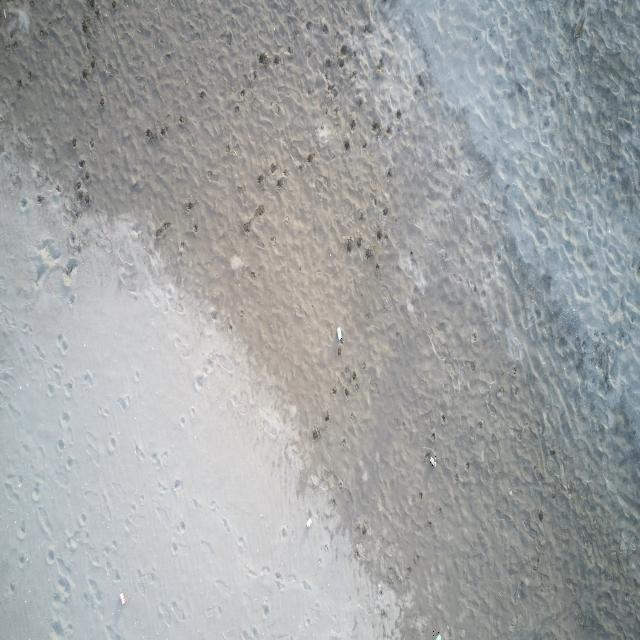Garbage: (428, 454, 435, 467), (120, 592, 127, 604), (336, 327, 341, 343), (306, 516, 311, 527), (433, 632, 440, 639)
